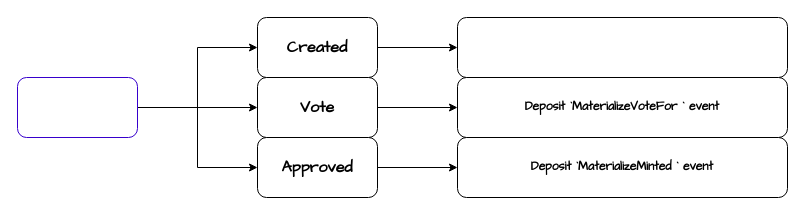
Some shapes in this 805 by 215 pixel diagram are drawn without their labels. Each missing label, with the box of its shape:
Deposit ` MaterializeInitialized ` event: (456, 16, 788, 78)
Proposal Phase: (16, 76, 138, 138)
